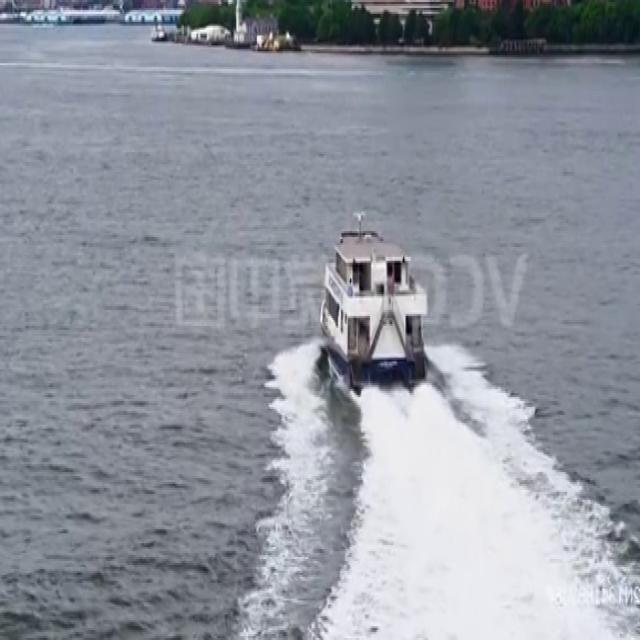houseboat: (318, 218, 432, 399)
